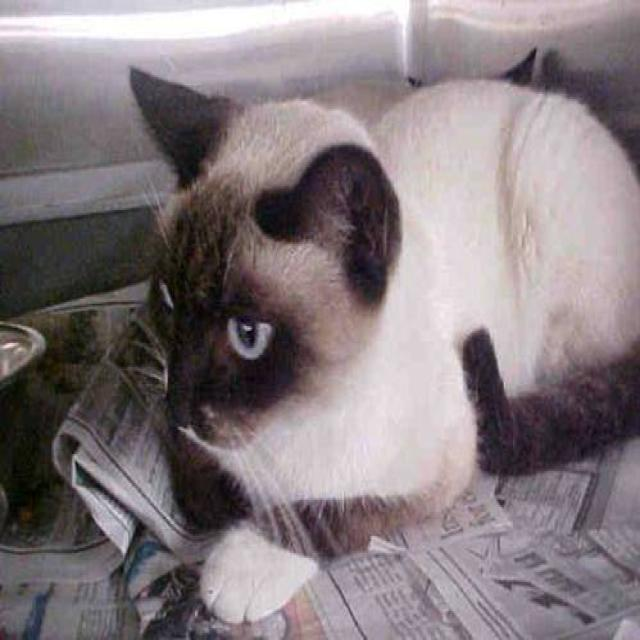cat: (119, 48, 639, 624)
